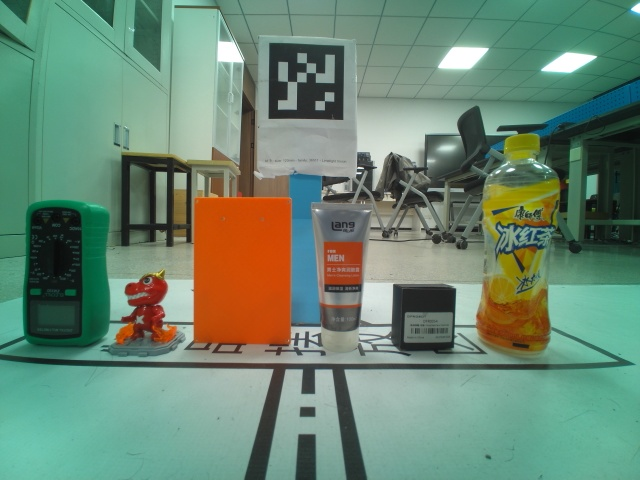banzi: (391, 282, 457, 352)
binghongcha: (112, 270, 186, 356)
dabao: (309, 201, 374, 353)
dianbiao: (476, 133, 557, 360)
hezi: (22, 200, 110, 347)
long: (192, 196, 293, 345)
